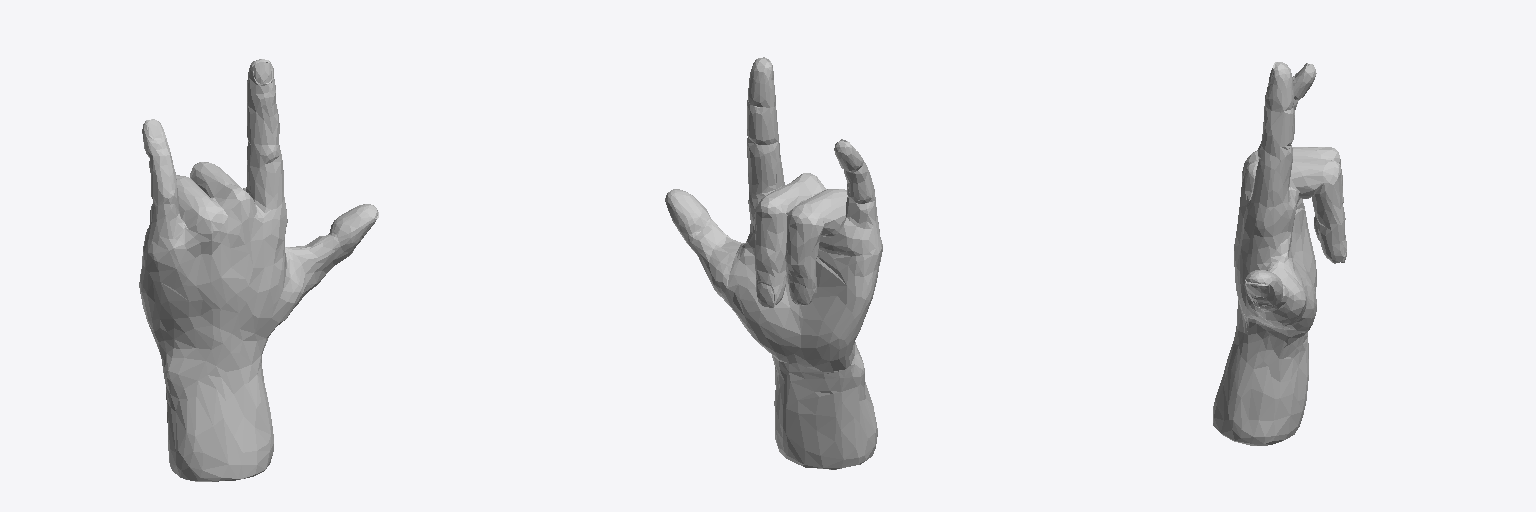
File: handobj.obj
3 renders of one model, left to right at view 1: azimuth 30°, elevation 25°; view 2: azimuth 150°, elevation 25°; view 3: azimuth 270°, elevation 25°, orthographic.
Parts seen in each view (by area): view 1: hand; view 2: hand; view 3: hand.
Boxes of the visible parts, x1=… form: hand: x1=139, y1=59, x2=378, y2=481; hand: x1=665, y1=57, x2=882, y2=469; hand: x1=1213, y1=62, x2=1346, y2=445.
Size of the model in its own units: 1.02 by 1.71 by 0.5351.